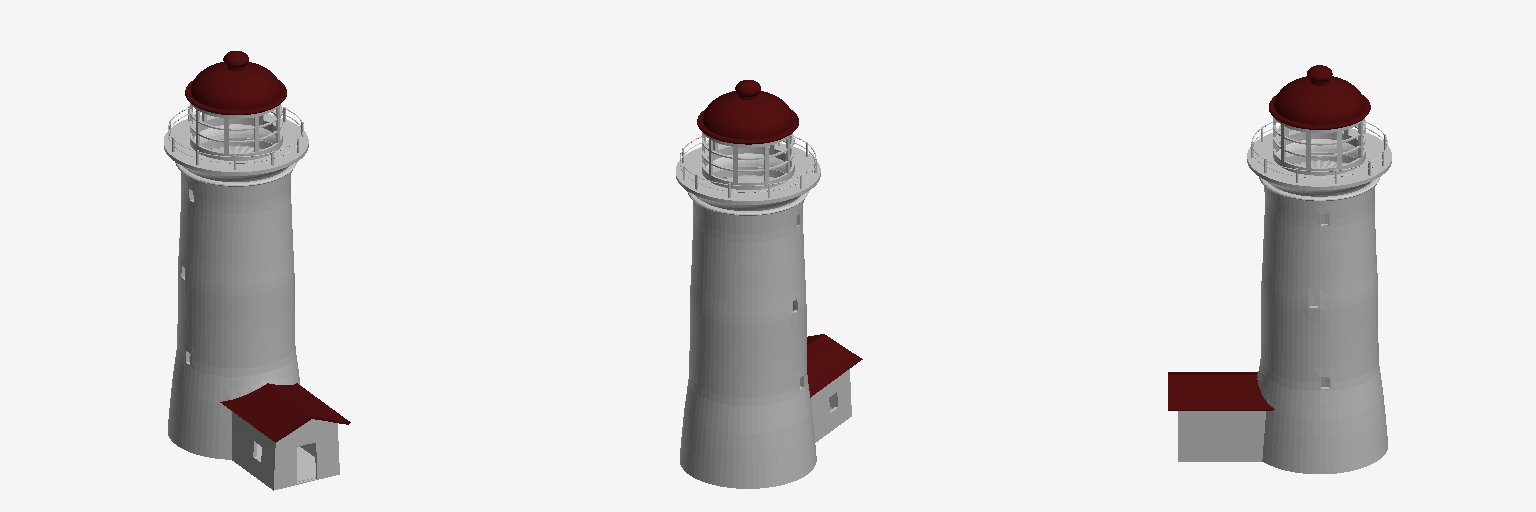
Rendered from lighthouse.obj.
3 views of the same model, side by side, from view 1: azimuth 30°, elevation 25°; view 2: azimuth 150°, elevation 25°; view 3: azimuth 270°, elevation 25° (orthographic).
Visible parts, largest first — view 1: tower_default; view 2: tower_default; view 3: tower_default.
Boxes of the visible parts, x1=… form: tower_default: x1=164, y1=51, x2=350, y2=490; tower_default: x1=676, y1=80, x2=862, y2=488; tower_default: x1=1168, y1=65, x2=1391, y2=473.
Size of the model in its own units: 8.56 by 24.67 by 13.24.